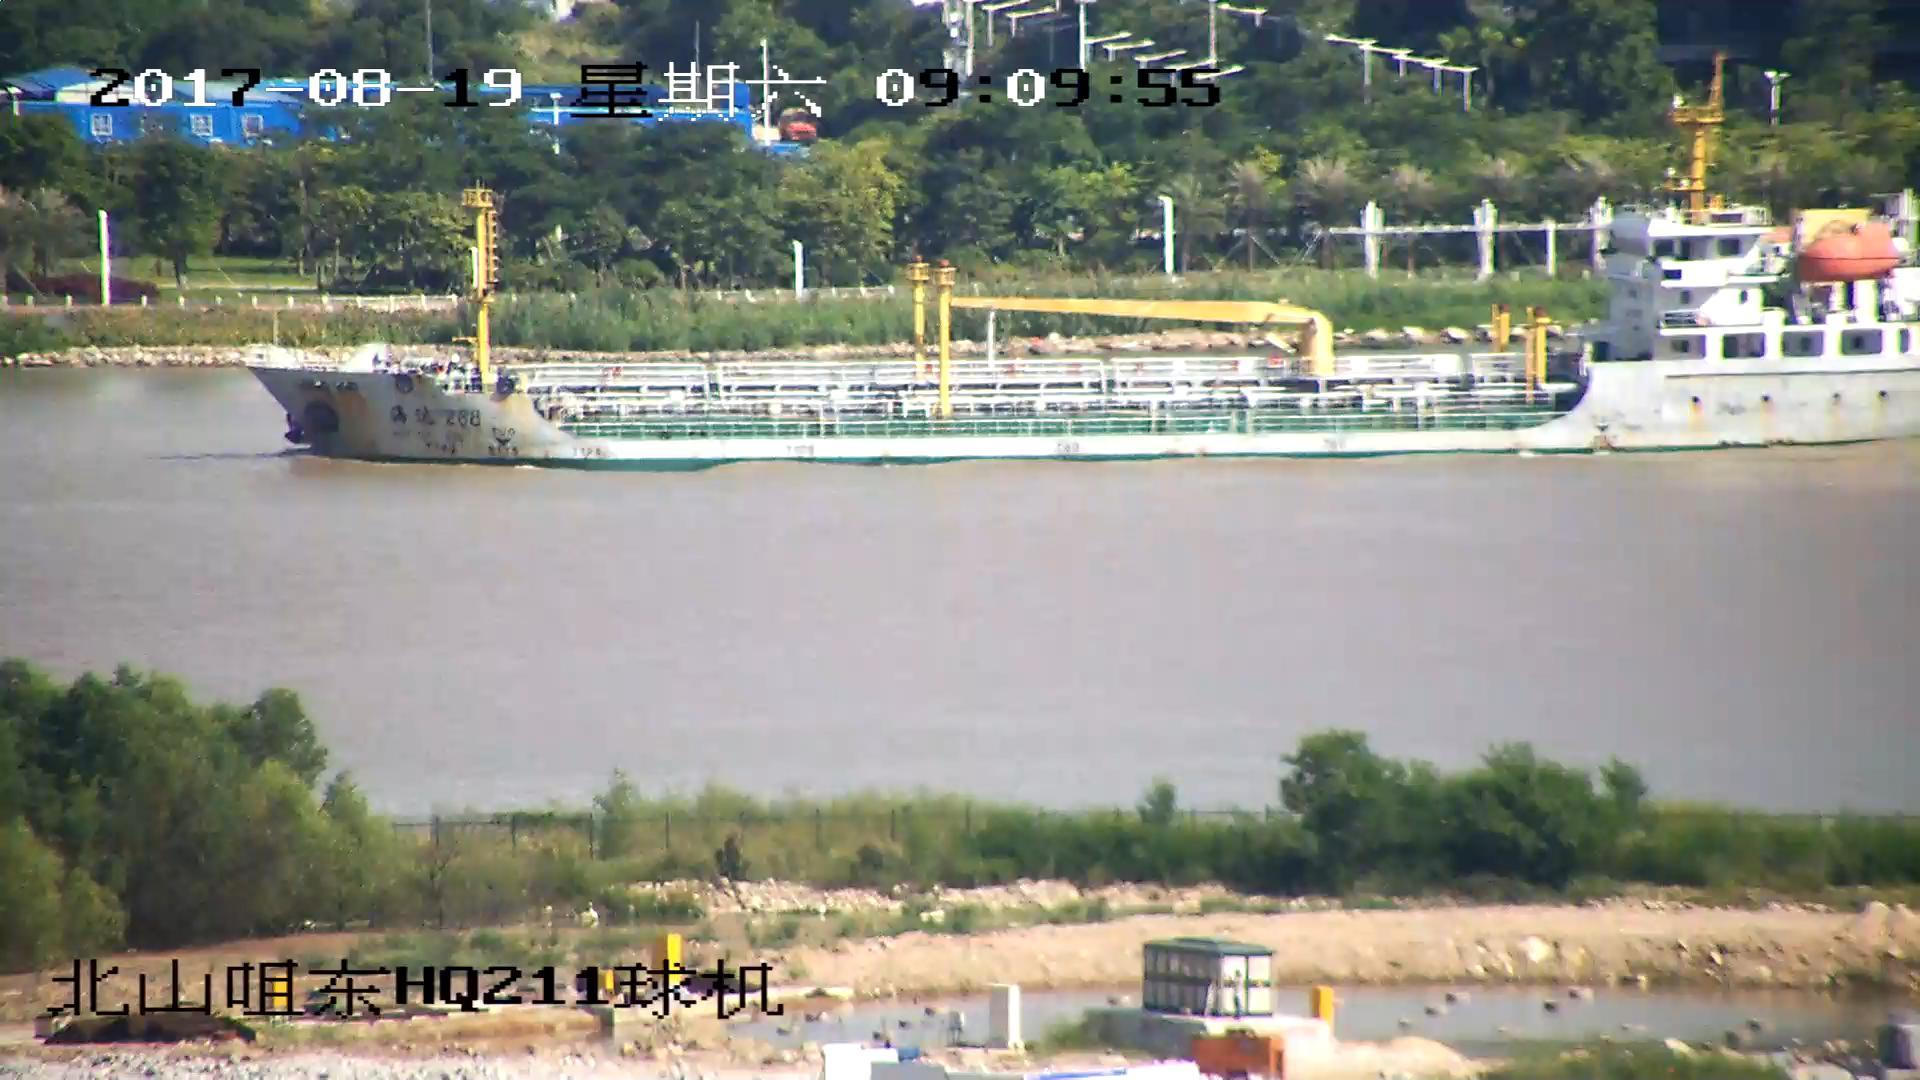Ship: (243, 111, 1920, 464)
